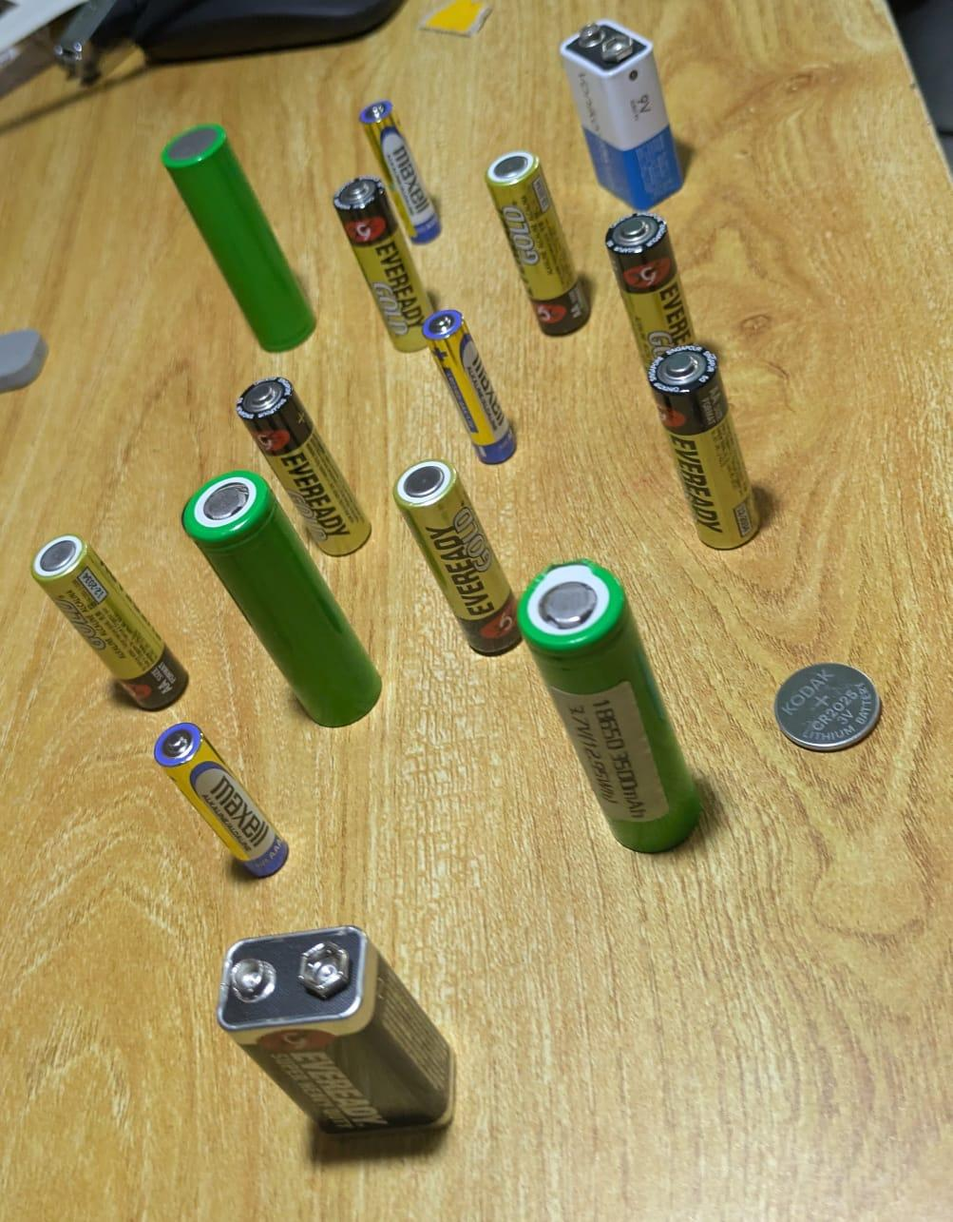9V: (207, 915, 471, 1164), (547, 8, 708, 211)
AA: (226, 357, 394, 568), (385, 448, 538, 667), (29, 521, 194, 719), (639, 334, 771, 560), (482, 134, 606, 347), (326, 160, 449, 357), (596, 198, 705, 348), (443, 353, 456, 357)
AAA: (152, 712, 308, 893), (423, 300, 534, 477), (354, 84, 461, 261)
COIN: (772, 645, 891, 764)
